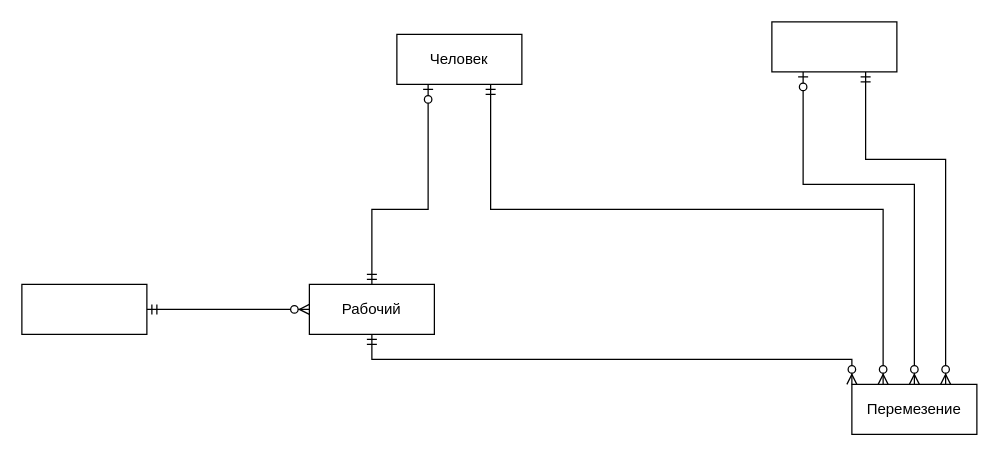
This 999x456 diagram has some shape labels left out. The shapes that lost their labels are listed below. From the top down, each one's box as (x1, y1, x2, y2) in pixels, then its label:
(771, 21, 897, 72): Место
(21, 283, 147, 334): Транспорт
